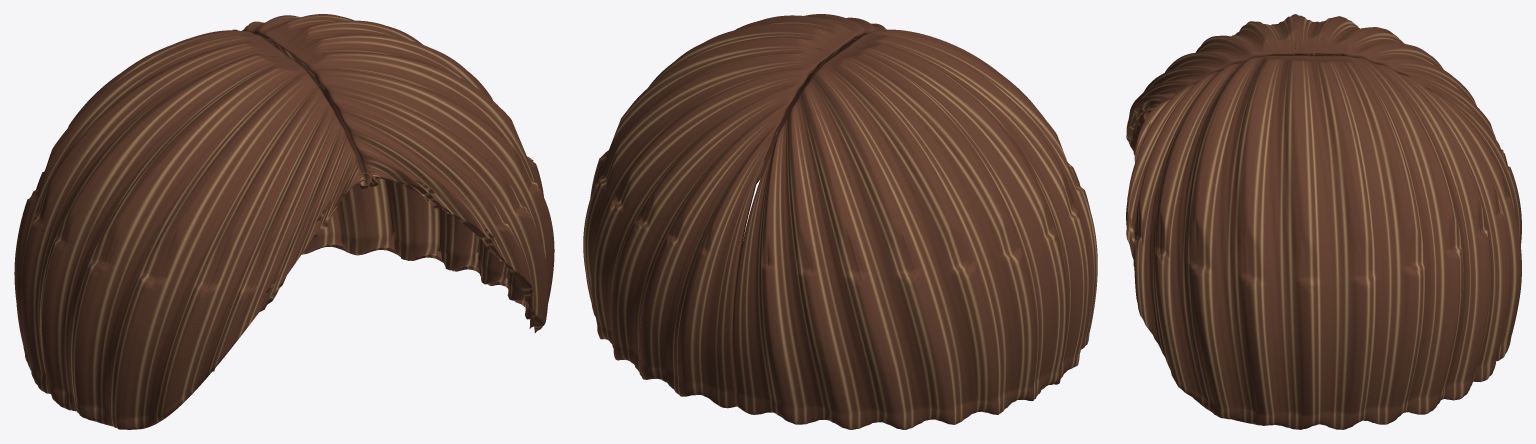
Rendered from Highlights-a0681f1f4abd252-hair.glb.
3 renders of one model, left to right at view 1: azimuth 30°, elevation 25°; view 2: azimuth 150°, elevation 25°; view 3: azimuth 270°, elevation 25°, orthographic. The views are drawn at different scales.
Visible parts, largest first — view 1: 226 hair / Hair252 / flowing sculpt middle.001; view 2: 226 hair / Hair252 / flowing sculpt middle.001; view 3: 226 hair / Hair252 / flowing sculpt middle.001.
Part boxes in pixels (x1=…): 226 hair / Hair252 / flowing sculpt middle.001: x1=14, y1=14, x2=554, y2=429; 226 hair / Hair252 / flowing sculpt middle.001: x1=583, y1=14, x2=1097, y2=429; 226 hair / Hair252 / flowing sculpt middle.001: x1=1126, y1=14, x2=1521, y2=429.
Size of the model in its own units: 1.06 by 0.6585 by 0.8284.
Materials: 1 (1 with a texture image).
